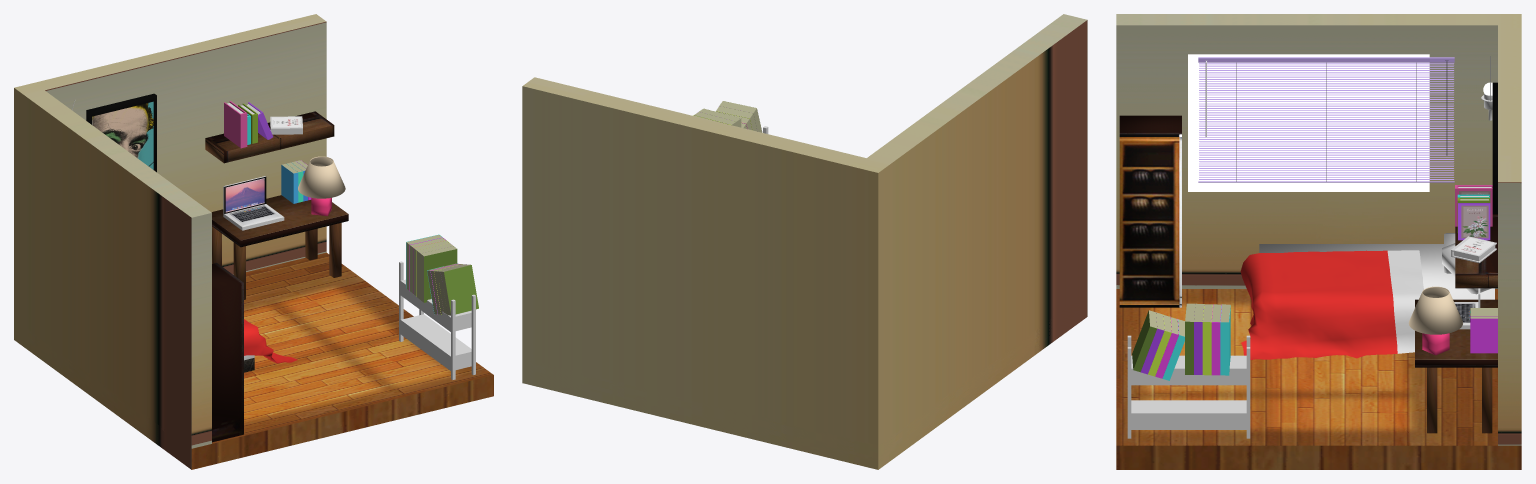
3 views of the same model, side by side, from view 1: azimuth 30°, elevation 25°; view 2: azimuth 150°, elevation 25°; view 3: azimuth 270°, elevation 25° (orthographic). The views are drawn at different scales.
Visible parts, largest first — view 1: Room, Cube.005, Table, Shelves1, Cube.007, Cube.001, Cube.004, Lampshade.001, Book0.001, Book0.002, Book, Plane (+2 smaller); view 2: Room; view 3: Room, Venetian_slats, Plane, Cube.005, Shelves1, Table, Cube, Lampshade.001, Cube.001, VenetianFrame, Book.003, Book3 (+17 smaller).
Boxes of the visible parts, bbox=[...] form: Room: bbox=[14, 14, 493, 469]; Cube.005: bbox=[212, 263, 243, 442]; Table: bbox=[211, 195, 348, 299]; Shelves1: bbox=[399, 261, 475, 379]; Cube.007: bbox=[86, 93, 156, 172]; Cube.001: bbox=[205, 111, 334, 163]; Cube.004: bbox=[223, 176, 284, 230]; Lampshade.001: bbox=[298, 156, 345, 198]; Book0.001: bbox=[440, 264, 478, 315]; Book0.002: bbox=[420, 246, 457, 302]; Book: bbox=[224, 101, 247, 148]; Plane: bbox=[244, 319, 297, 363]; Room: bbox=[522, 14, 1087, 469]; Room: bbox=[1116, 14, 1521, 469]; Venetian_slats: bbox=[1199, 63, 1453, 179]; Plane: bbox=[1240, 250, 1423, 359]; Cube.005: bbox=[1119, 115, 1181, 307]; Shelves1: bbox=[1127, 335, 1250, 438]; Table: bbox=[1415, 299, 1497, 433]; Cube: bbox=[1259, 244, 1494, 299]; Lampshade.001: bbox=[1408, 286, 1462, 334]; Cube.001: bbox=[1455, 214, 1497, 288]; VenetianFrame: bbox=[1198, 57, 1454, 62]; Book.003: bbox=[1458, 203, 1490, 240]; Book3: bbox=[1470, 316, 1497, 353].
Bounding box in the file's own units: 454 × 362 × 462.
Materials: 54 (11 with a texture image).
